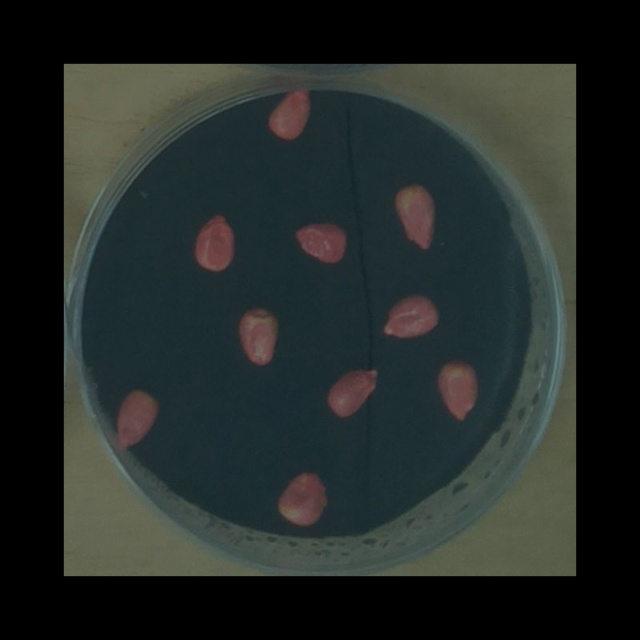Zea mays: (271, 465, 332, 532), (388, 177, 441, 254), (321, 360, 384, 422), (376, 287, 445, 343), (111, 383, 165, 454), (432, 353, 484, 425), (231, 300, 284, 370), (188, 207, 240, 275), (262, 82, 317, 144), (289, 215, 352, 268)
